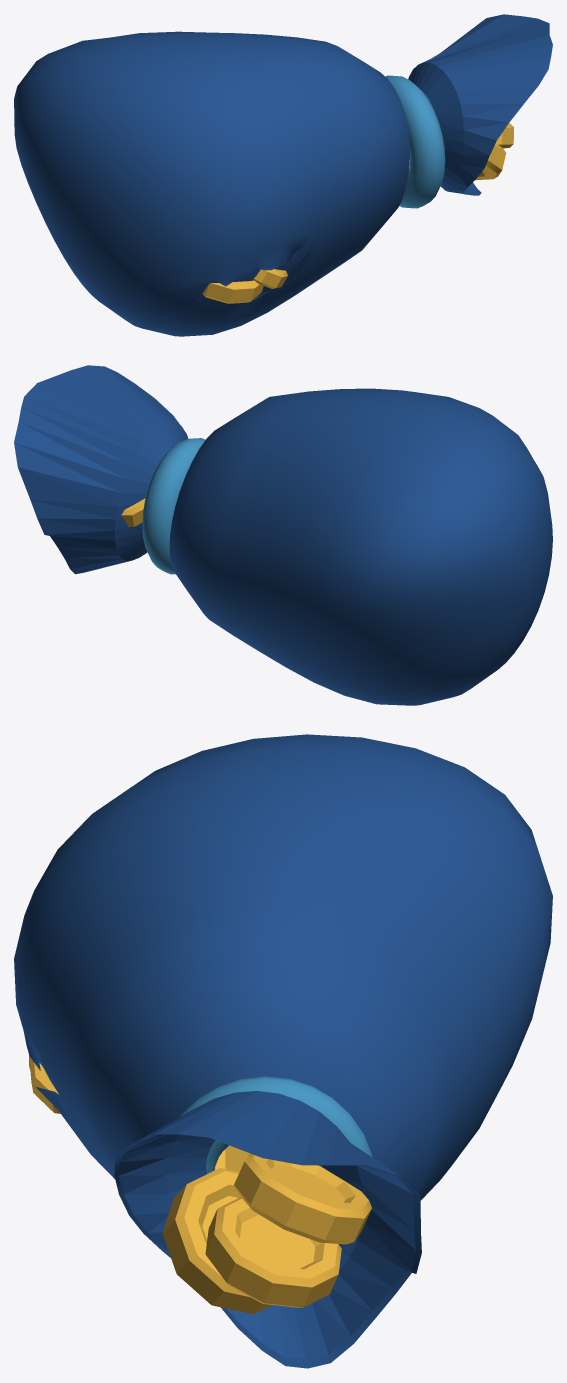
3 renders of one model, top to bottom at view 1: azimuth 30°, elevation 25°; view 2: azimuth 150°, elevation 25°; view 3: azimuth 270°, elevation 25°, orthographic. The views are drawn at different scales.
Visible parts, largest first — view 1: Sphere001, Circle001, Cylinder004, Cylinder002, Cylinder005; view 2: Sphere001, Circle001, Cylinder003; view 3: Sphere001, Cylinder006, Cylinder003, Cylinder002, Circle001.
Part boxes in pixels (x1,y1,x2,y2): Sphere001: (14,14,552,336); Circle001: (385,75,445,208); Cylinder004: (202,280,263,303); Cylinder002: (475,143,505,180); Cylinder005: (253,269,287,288); Sphere001: (14,365,552,705); Circle001: (142,438,205,574); Cylinder003: (121,498,145,526); Sphere001: (14,734,552,1368); Cylinder006: (205,1197,341,1307); Cylinder003: (234,1153,371,1244); Cylinder002: (162,1168,272,1314); Circle001: (180,1076,372,1173).
Bounding box in the file's own units: 135 × 71.55 × 80.28.
